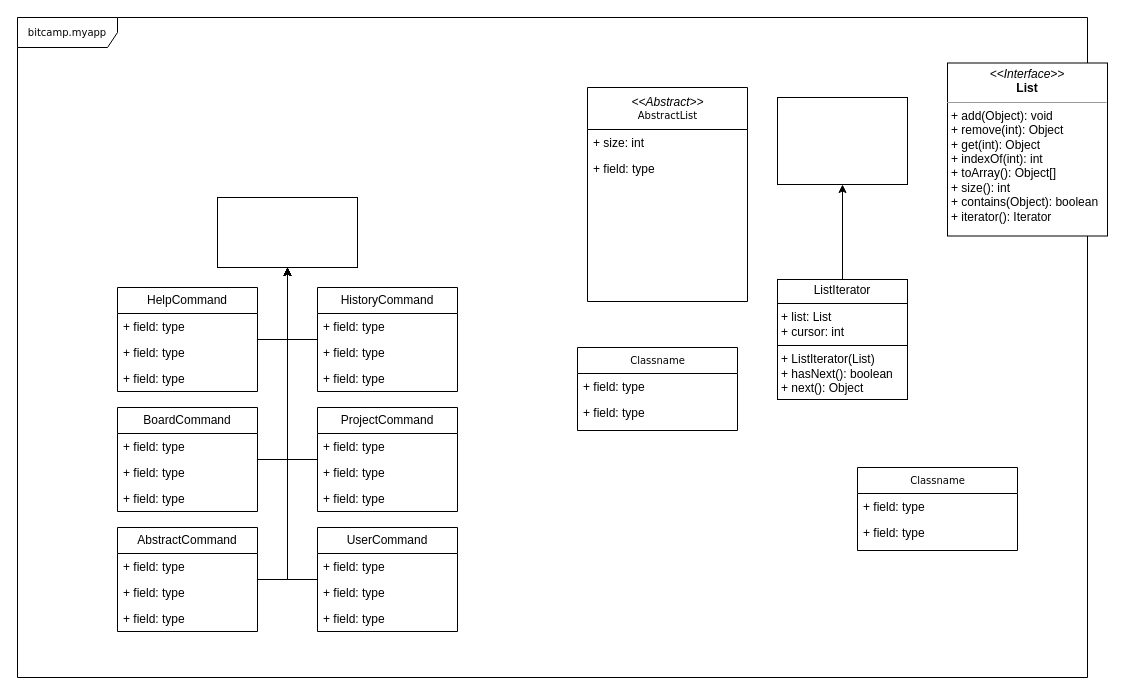
This 1125x695 diagram has some shape labels left out. The shapes that lost their labels are listed below. From the top down, each one's centre as x and y in pixels, then its label:
At point 842,140: "<<Interface>> Iterator + hasNext(): boolean + next(): Object".
At point 287,232: "<<Interface>> Command + execute(Stack): void".
